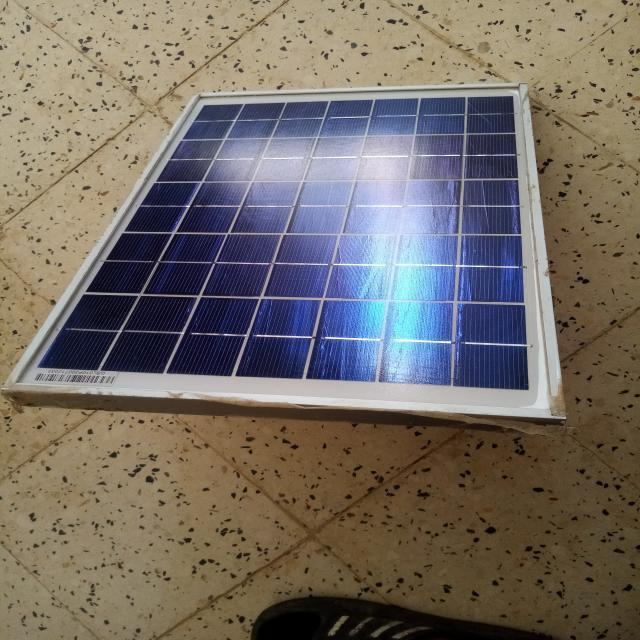Normal Solar Panel: (6, 85, 566, 422)
